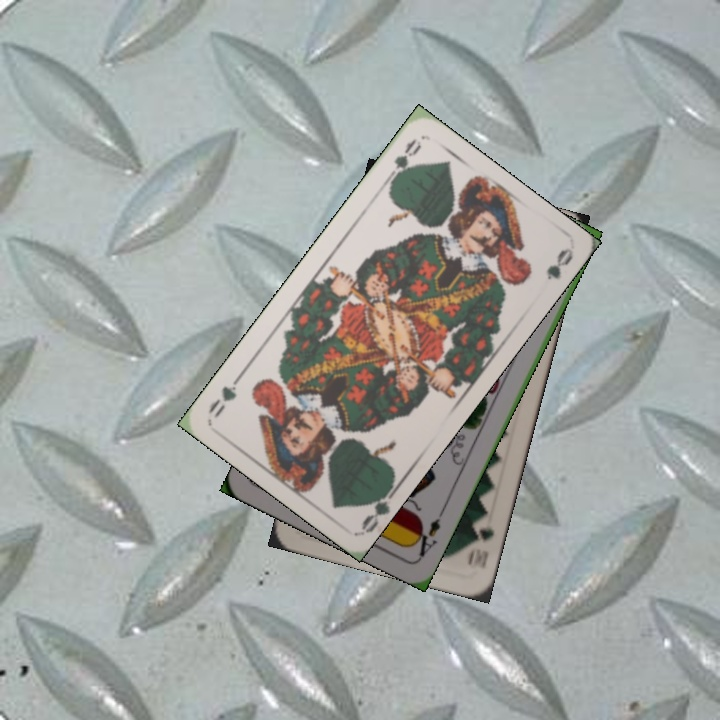EA: (407, 505, 447, 560)
G10: (463, 513, 497, 568)
GO: (357, 480, 401, 535), (380, 134, 424, 189)
